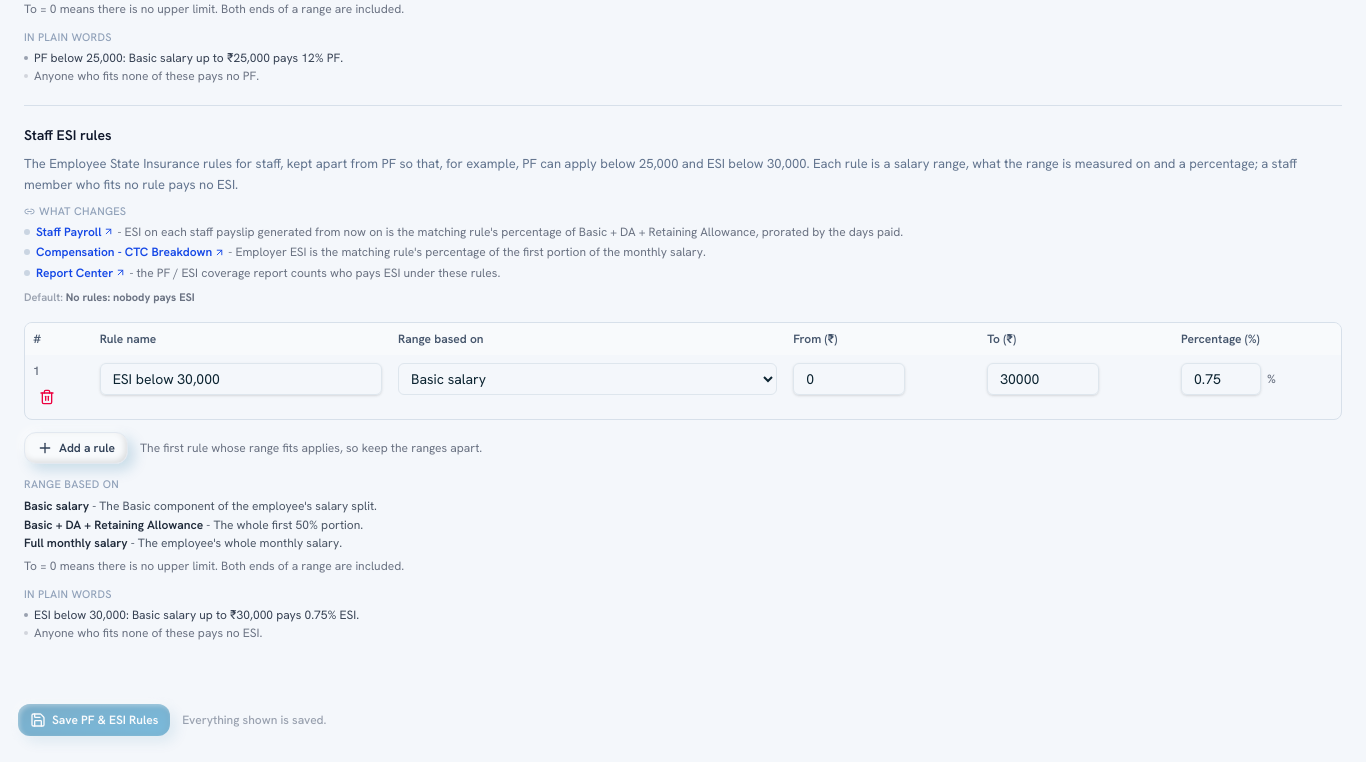
Scenario: Settings -> PF & ESI: adding, editing and deleting rules › asks before deleting a rule, and the delete is only a draft until Save
The width and height of the screenshot is (1366, 762).
(page scrolled)
Click the button named "Delete Staff ESI rule 1" at [47, 396], box [33,382,61,410]
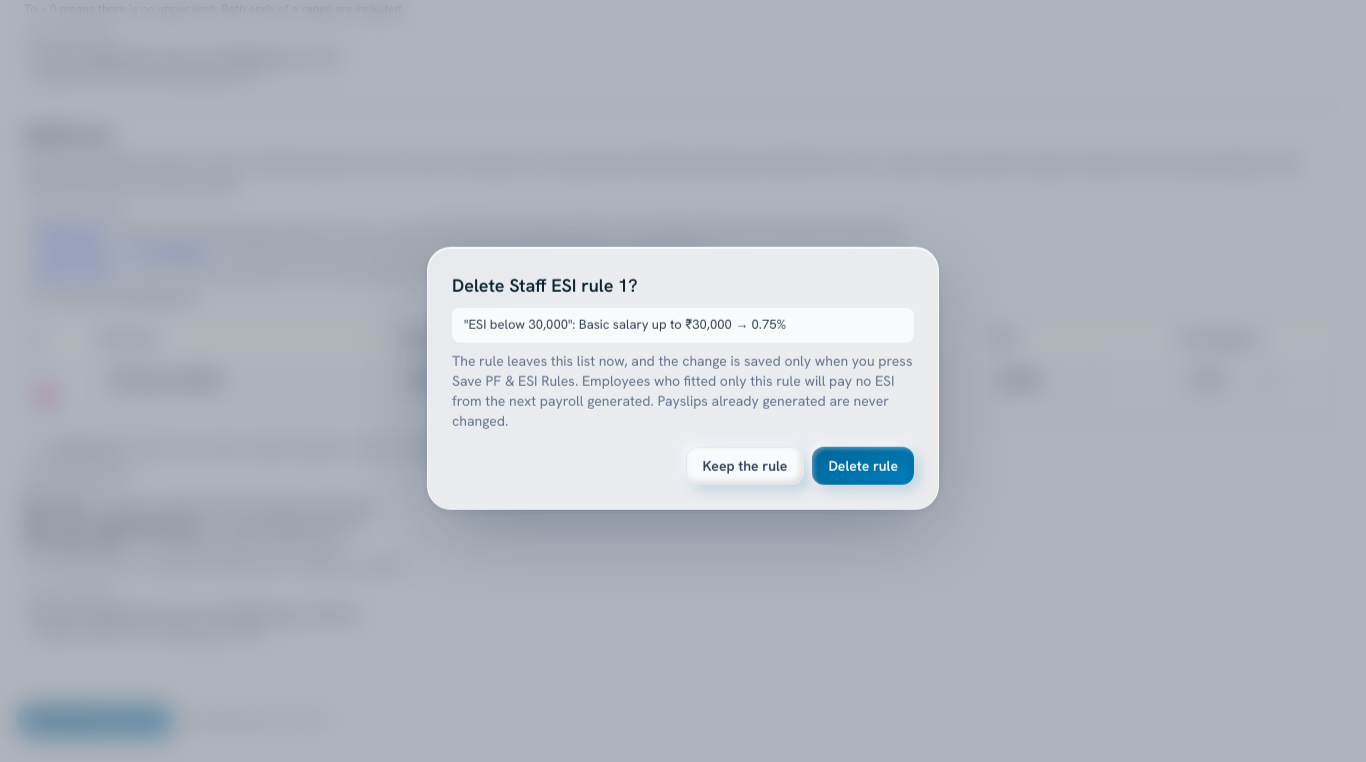
Expected: the dialog with test id "confirm-delete-rule-dialog" shows "Delete Staff ESI rule 1?", [427,247,939,509]
Expected: the dialog with test id "confirm-delete-rule-dialog" shows "\"ESI below 30,000\": Basic salary up to ₹30,000 → 0.75%", [464,316,786,333]
Expected: the dialog with test id "confirm-delete-rule-dialog" shows "saved only when you press Save PF & ESI Rules", [452,351,912,389]
Click the button "Keep the rule" at [745, 465], box [686,446,804,484]
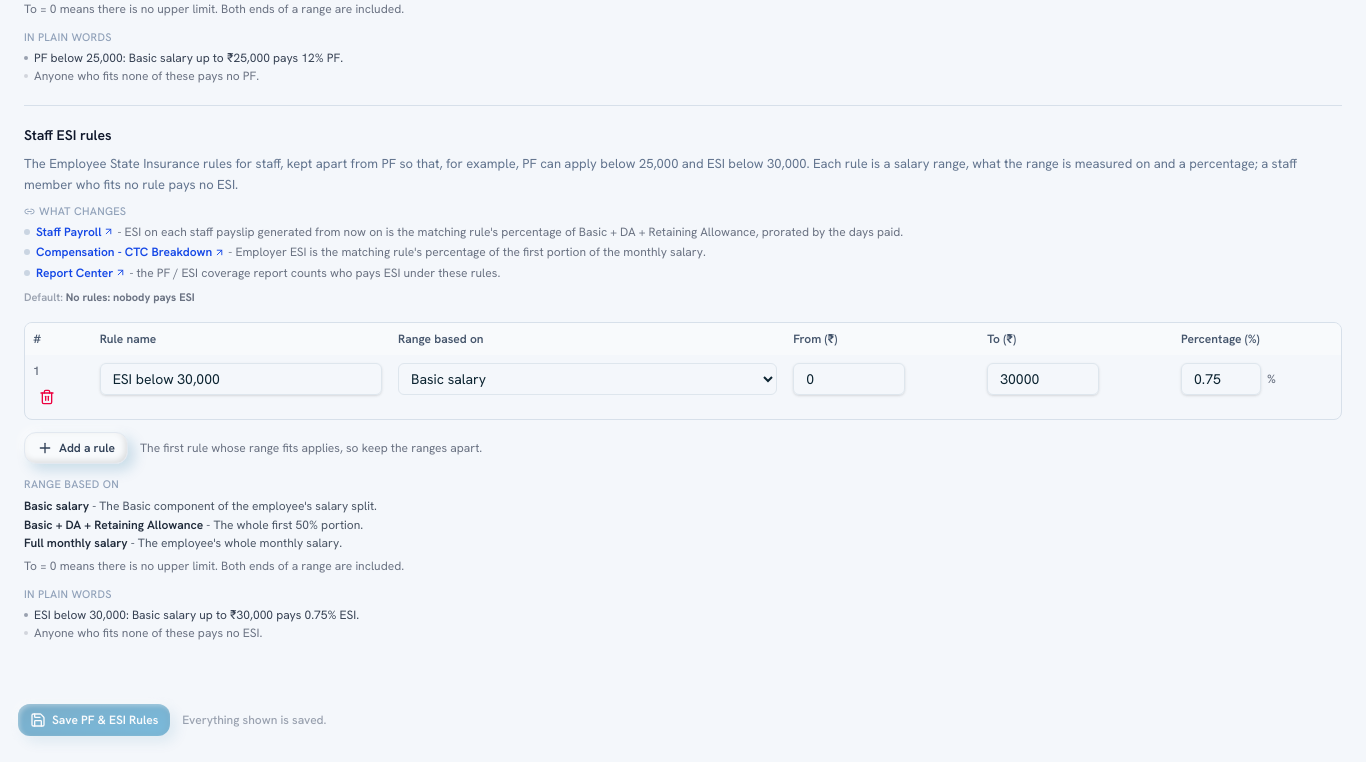
Click the button named "Delete Staff ESI rule 1" at [47, 396], box [33,382,61,410]
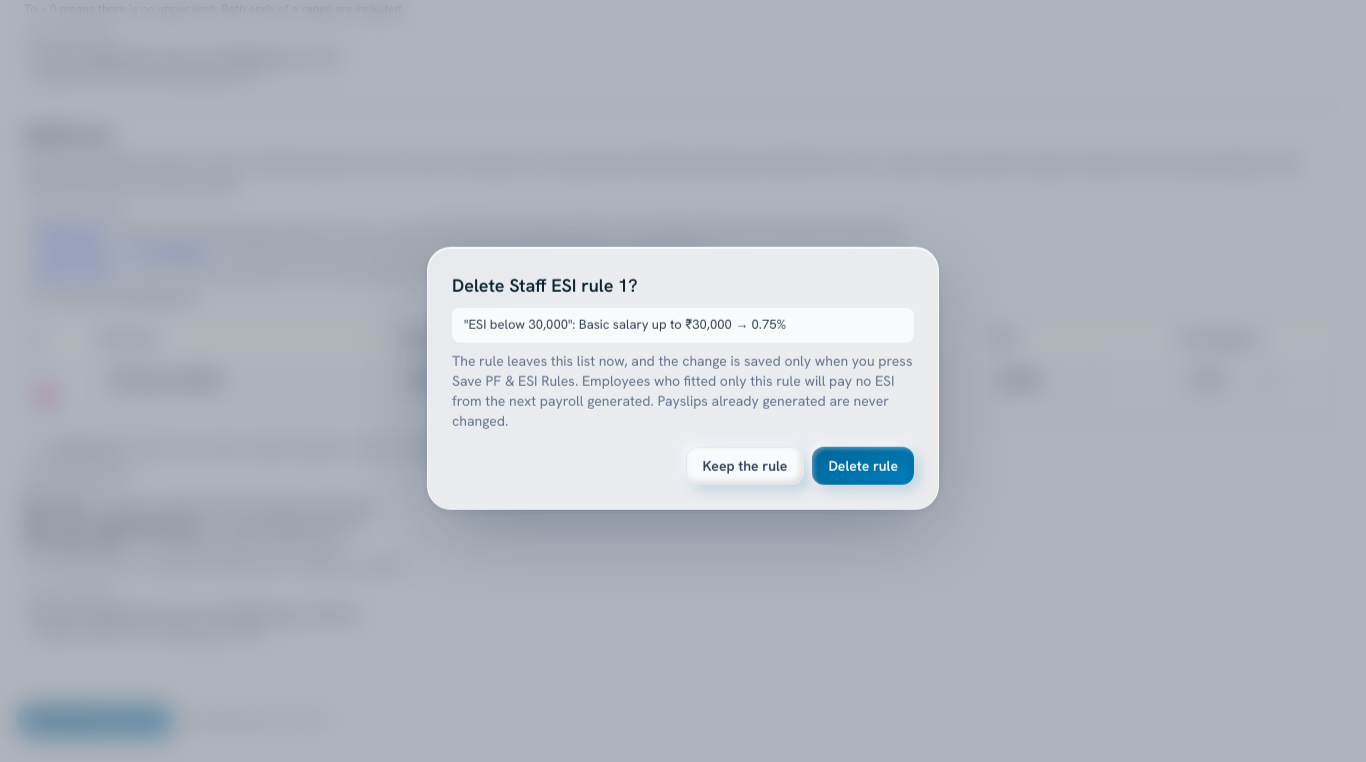
Click the button with test id "confirm-delete-rule" at [863, 465], box [812,446,914,484]
(page scrolled)
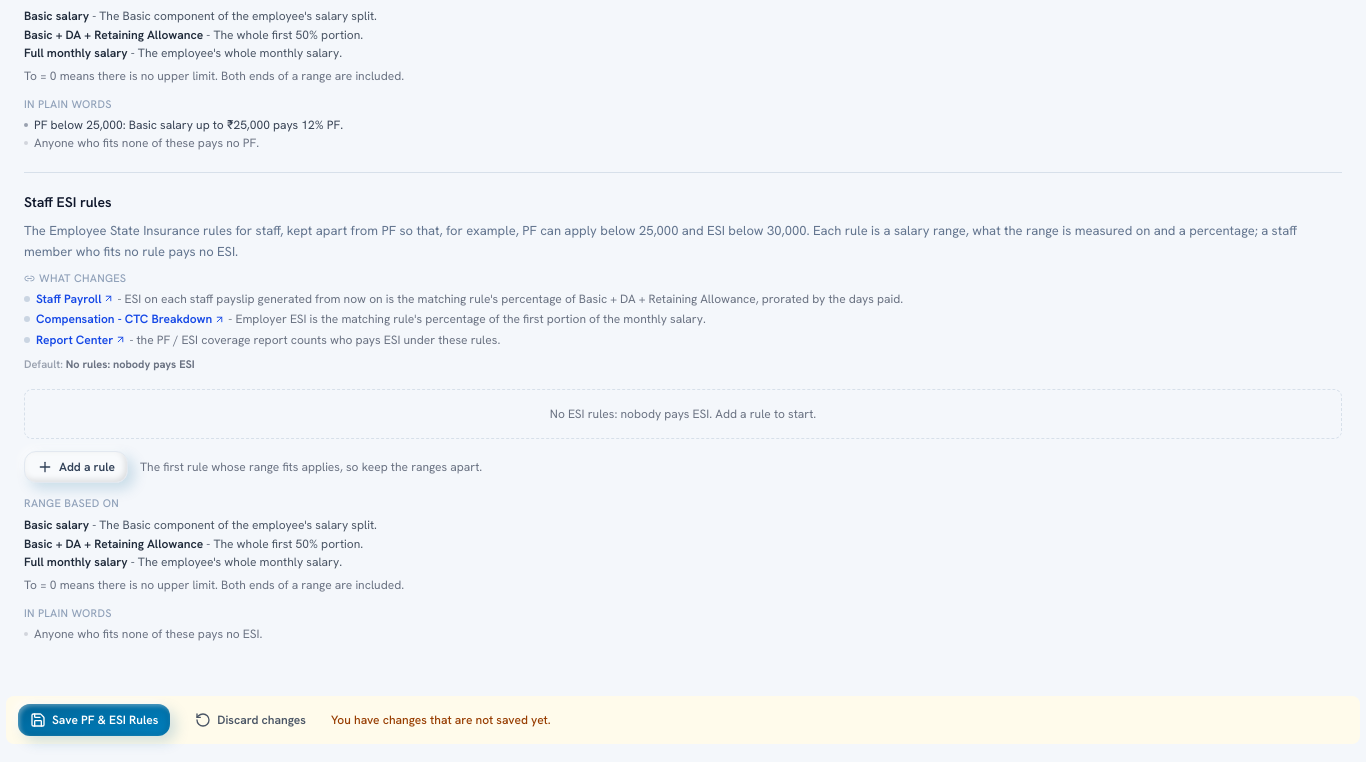
Expected: the text with test id "rules-staff-esi-empty" shows "No ESI rules: nobody pays ESI.", [24,388,1342,438]
Expected: the button "Save PF & ESI Rules" is enabled, [18,704,170,736]
